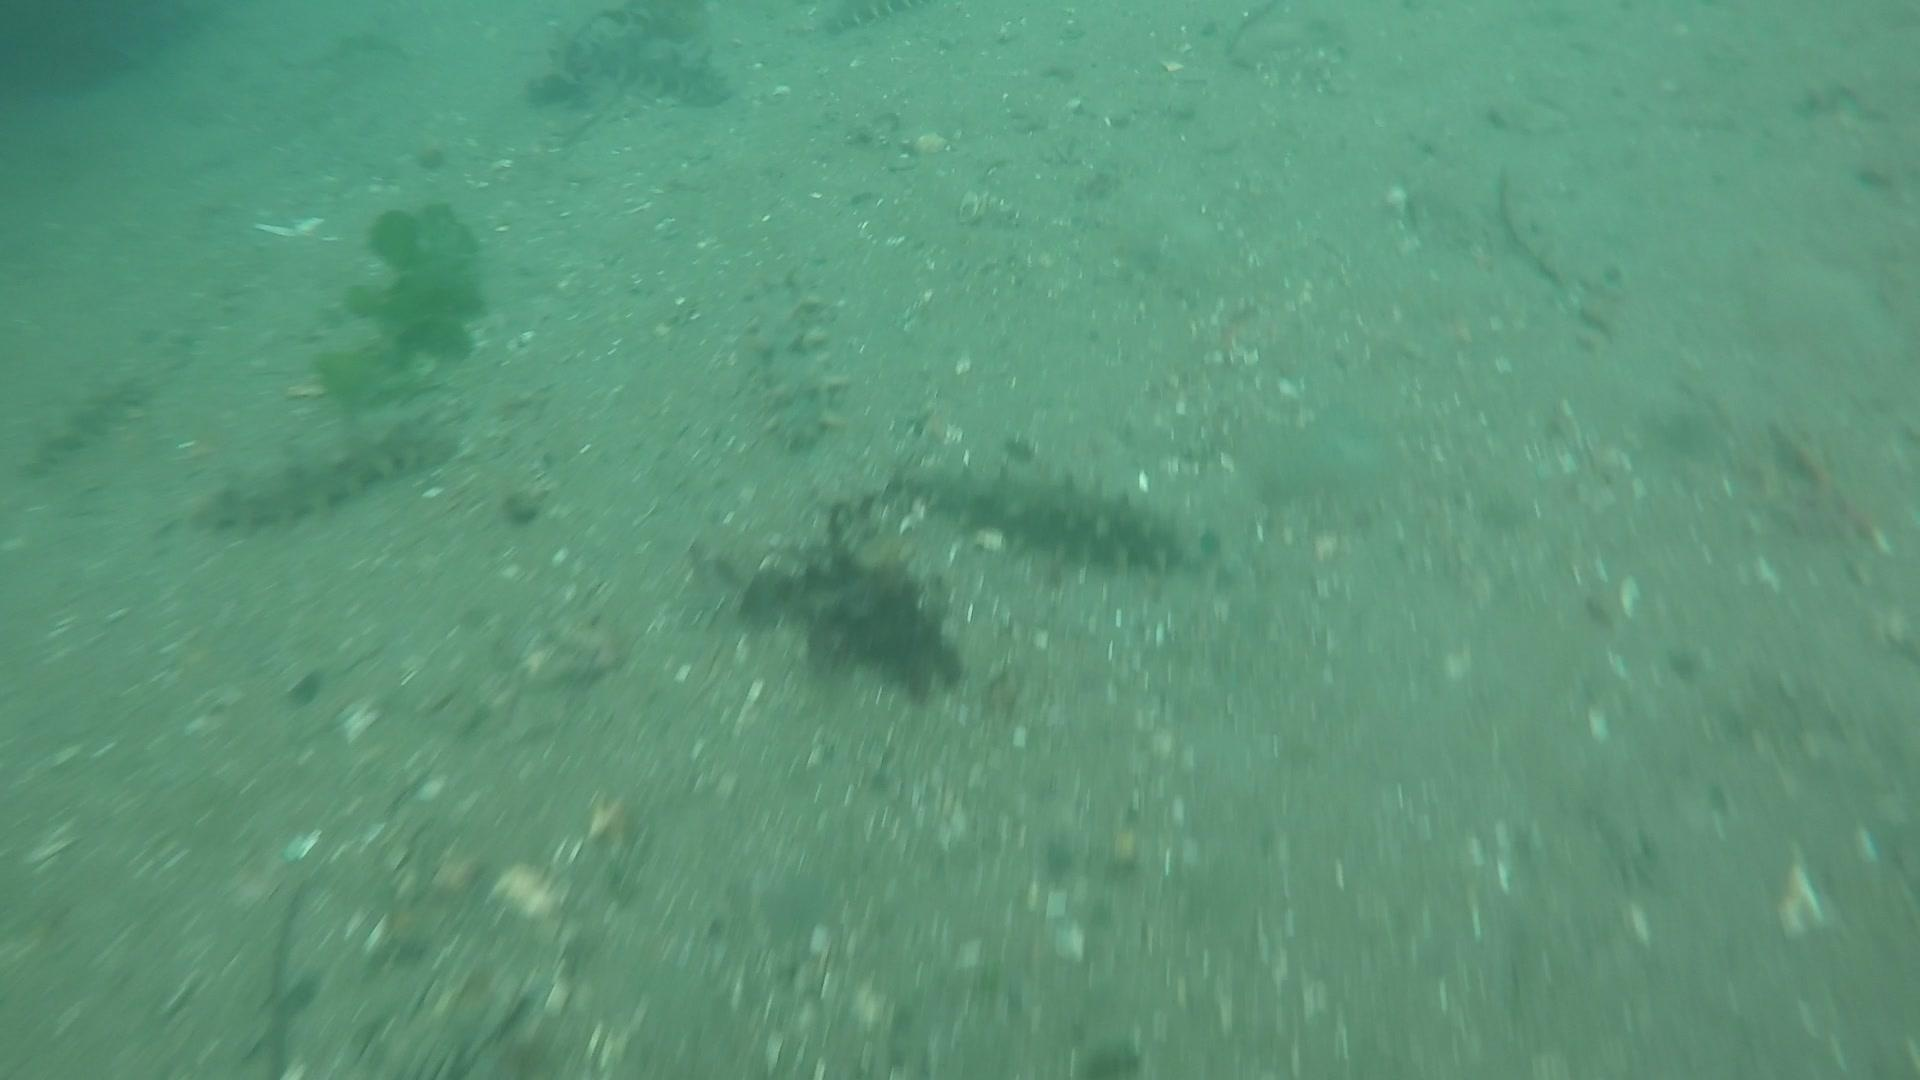holothurian: (891, 443, 1222, 583), (171, 400, 455, 541), (736, 266, 851, 459), (537, 29, 740, 115), (16, 367, 154, 477), (534, 1, 705, 54), (802, 1, 935, 44)
